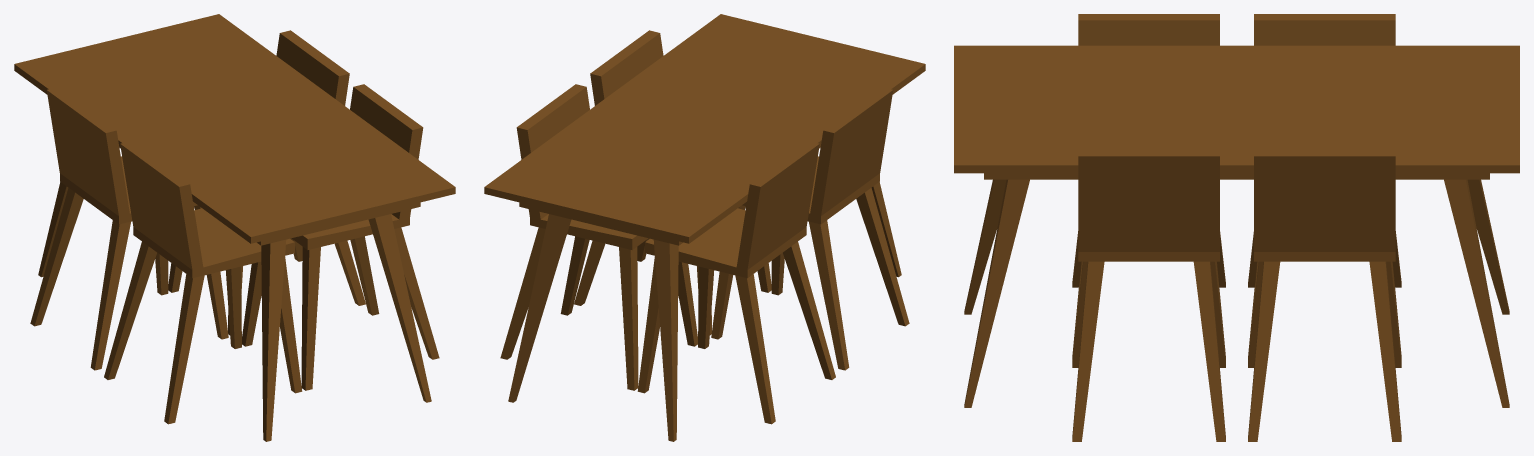
File: Dinnertable.fbx
3 renders of one model, left to right at view 1: azimuth 30°, elevation 25°; view 2: azimuth 150°, elevation 25°; view 3: azimuth 270°, elevation 25°, orthographic. The views are drawn at different scales.
Visible parts, largest first — view 1: Dinnertable; view 2: Dinnertable; view 3: Dinnertable.
Part boxes in pixels (left/top/right/bottom): Dinnertable: left=14, top=14, right=455, bottom=441; Dinnertable: left=484, top=14, right=925, bottom=441; Dinnertable: left=954, top=14, right=1519, bottom=441.
Bounding box in the file's own units: 132 × 108 × 200.
